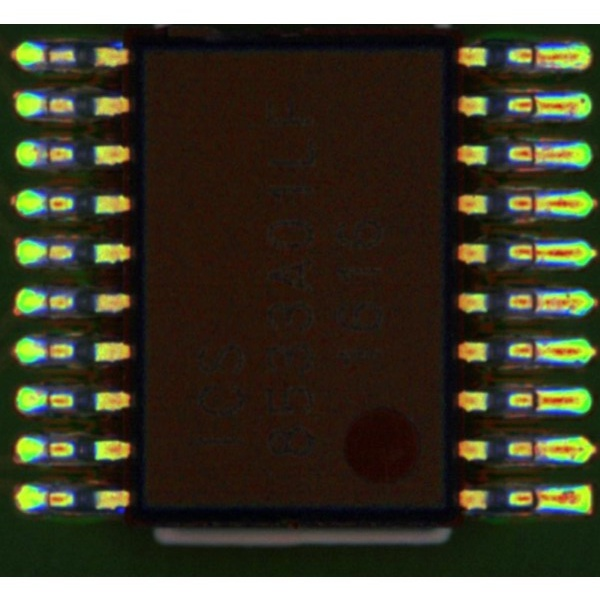Bad_podu: (528, 48, 556, 63), (528, 294, 553, 309), (527, 148, 555, 161), (526, 441, 547, 457), (527, 98, 551, 112), (528, 393, 551, 407), (525, 341, 545, 357), (527, 489, 548, 504), (527, 242, 543, 260), (527, 194, 542, 211)
